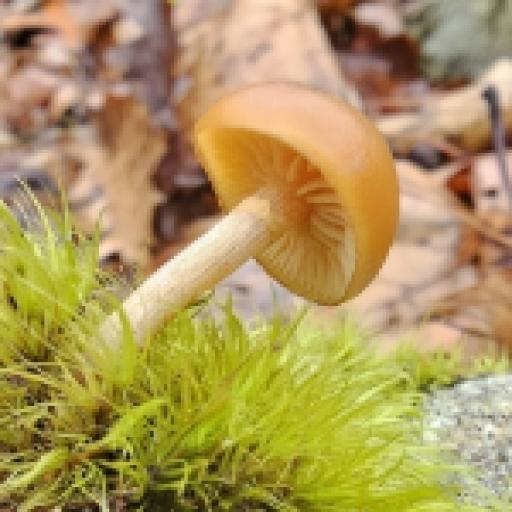mushroom: (100, 63, 418, 340)
